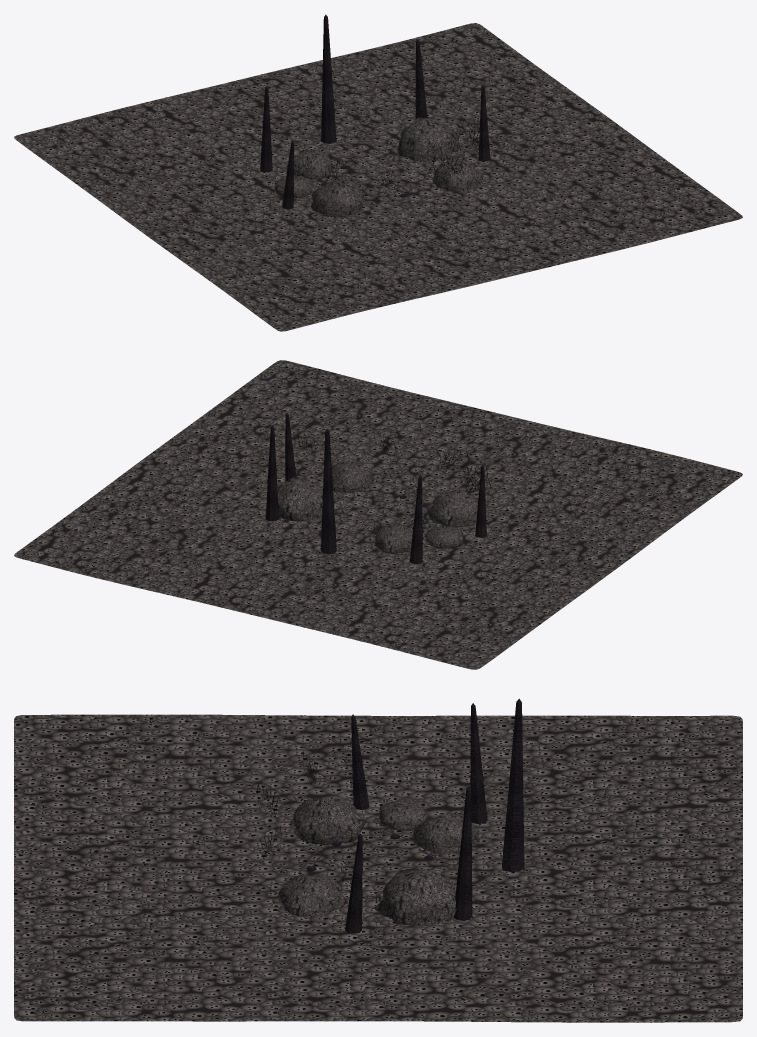
Rendered from dark.glb.
The picture shows the model from 3 angles, top to bottom: view 1: azimuth 30°, elevation 25°; view 2: azimuth 150°, elevation 25°; view 3: azimuth 270°, elevation 25°; orthographic projection. The views are drawn at different scales.
Visible parts, largest first — view 1: Floor, FaceMound_1, FaceMound_0, Obelisk_Center, FaceMound_3, FaceMound_2, Obelisk_LeftBack, Obelisk_RightBack, Obelisk_RightMid, FaceMound_4, Obelisk_LeftMid; view 2: Floor, FaceMound_1, FaceMound_0, Obelisk_Center, FaceMound_3, FaceMound_2, Obelisk_RightBack, Obelisk_LeftBack, FaceMound_4, Obelisk_LeftMid, Obelisk_RightMid; view 3: Floor, FaceMound_1, FaceMound_0, Obelisk_Center, FaceMound_3, FaceMound_2, Obelisk_RightBack, Obelisk_LeftBack, FaceMound_4, Obelisk_RightMid, Obelisk_LeftMid.
Boxes of the visible parts, x1,y1,x2,y2 form: Floor: (14,23,742,331); FaceMound_1: (397,117,458,161); FaceMound_0: (310,178,364,217); Obelisk_Center: (321,14,336,143); FaceMound_3: (432,157,482,192); FaceMound_2: (287,149,333,179); Obelisk_LeftBack: (260,86,272,172); Obelisk_RightBack: (415,39,427,119); Obelisk_RightMid: (478,84,490,161); FaceMound_4: (274,175,313,197); Obelisk_LeftMid: (282,140,294,208); Floor: (14,360,742,669); FaceMound_1: (277,477,322,521); FaceMound_0: (429,489,477,527); Obelisk_Center: (321,428,336,554); FaceMound_3: (331,460,373,492); FaceMound_2: (374,523,412,553); Obelisk_RightBack: (265,425,278,521); Obelisk_LeftBack: (409,475,422,564); FaceMound_4: (425,525,463,548); Obelisk_LeftMid: (475,464,486,537); Obelisk_RightMid: (285,413,296,481); Floor: (14,714,742,1022); FaceMound_1: (374,868,456,926); FaceMound_0: (290,798,365,845); Obelisk_Center: (502,698,524,871); FaceMound_3: (277,873,347,916); FaceMound_2: (413,812,479,852); Obelisk_RightBack: (454,786,472,920); Obelisk_LeftBack: (470,703,487,823); FaceMound_4: (378,799,431,831); Obelisk_RightMid: (345,833,362,933); Obelisk_LeftMid: (351,714,369,809).
Bounding box in the file's own units: 86.86 × 27.33 × 86.86.
5 materials, 3 textured.
